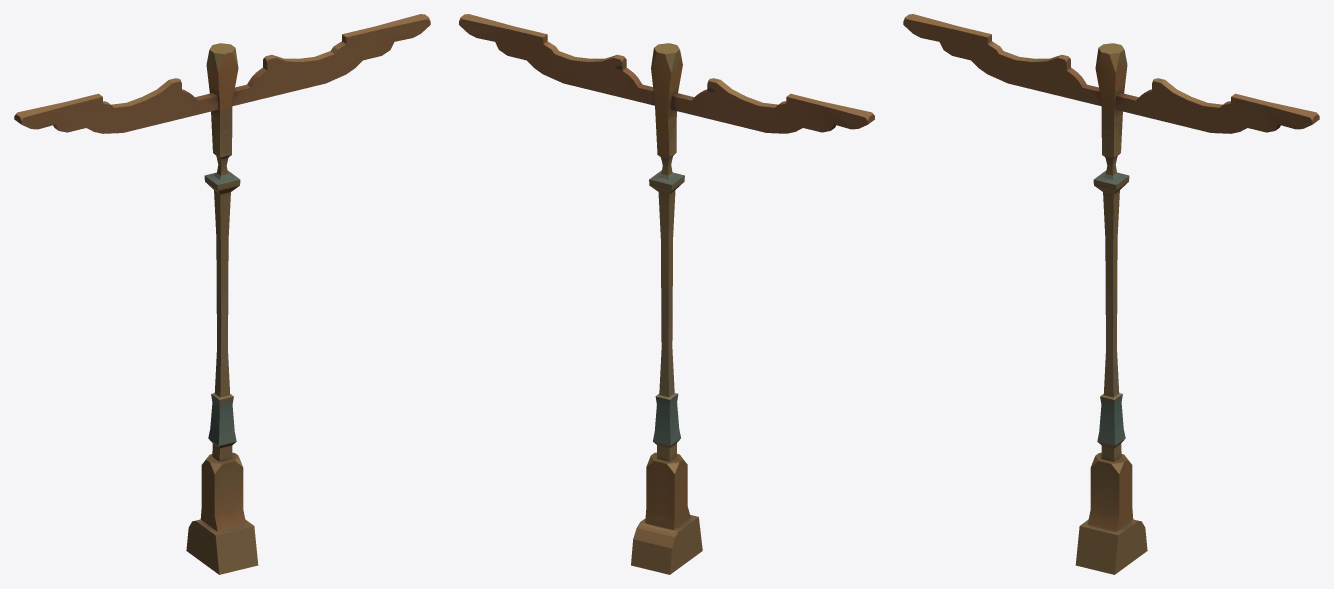
The model's file is OBJ_FLAG_B_03.obj.
3 renders of one model, left to right at view 1: azimuth 30°, elevation 25°; view 2: azimuth 150°, elevation 25°; view 3: azimuth 330°, elevation 25°, orthographic.
Parts seen in each view (by area): view 1: OBJ_FLAG_B_03; view 2: OBJ_FLAG_B_03; view 3: OBJ_FLAG_B_03.
Part boxes in pixels (x1=…): OBJ_FLAG_B_03: x1=14, y1=14, x2=430, y2=574; OBJ_FLAG_B_03: x1=459, y1=14, x2=874, y2=574; OBJ_FLAG_B_03: x1=903, y1=14, x2=1319, y2=574.
Size of the model in its own units: 4.84 by 5.76 by 0.6747.
1 material, 1 textured.
